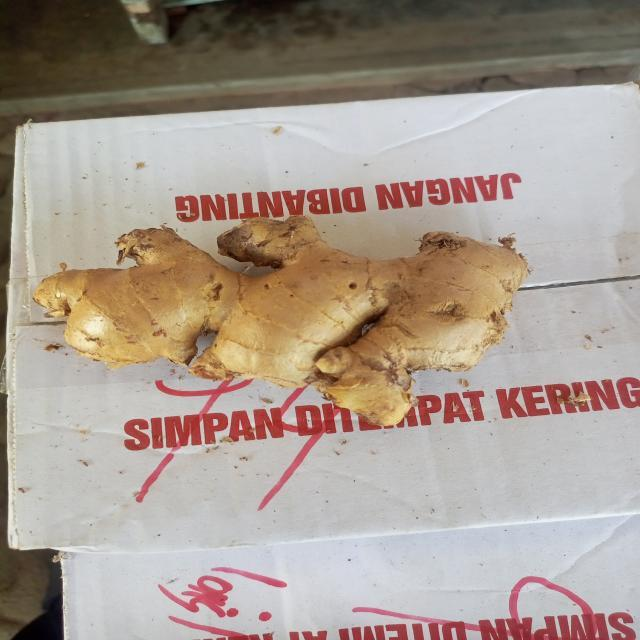ginger: (46, 222, 507, 419)
